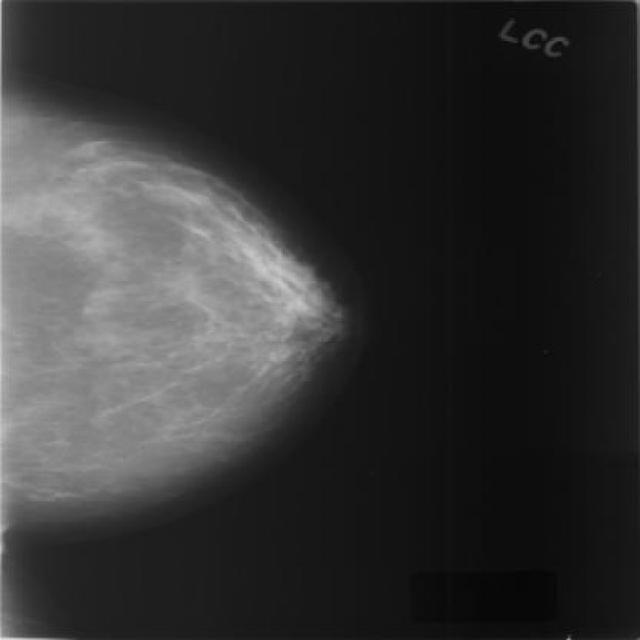tumor: (148, 163, 346, 350)
